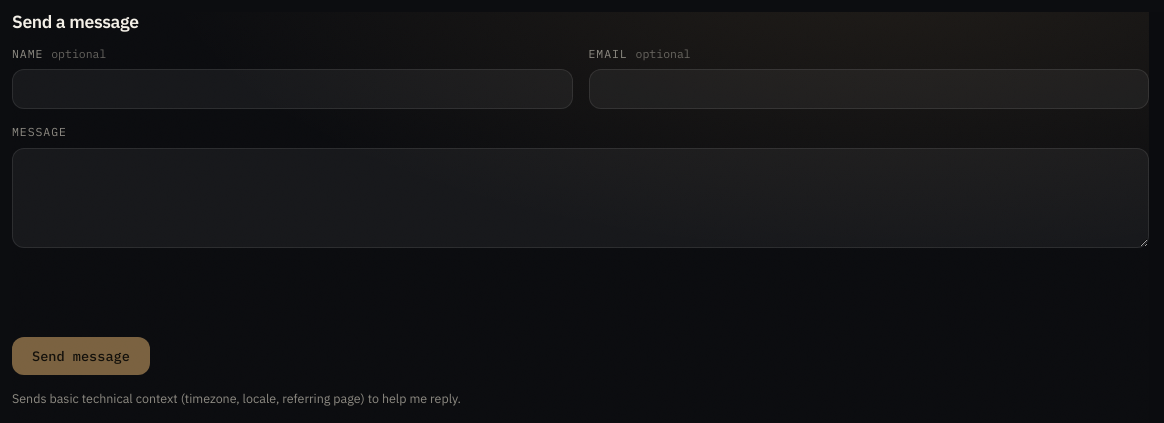
it: ContactForm › submits a typed message and shows a success note
The width and height of the screenshot is (1164, 423).
In the text box labelled "Message": (580, 198) [12,148,1149,248], type "Hi Brent"
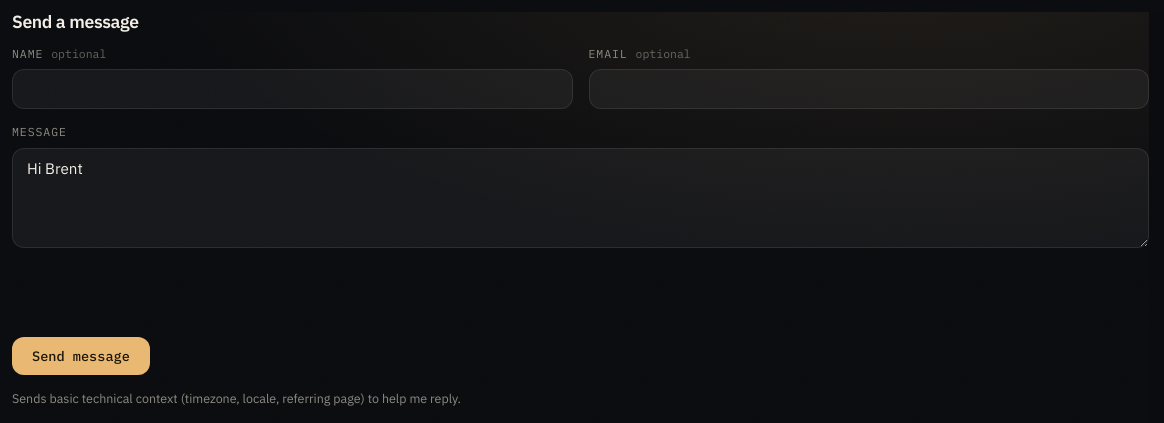
Click the button "Send message": (81, 356) [12,337,150,375]
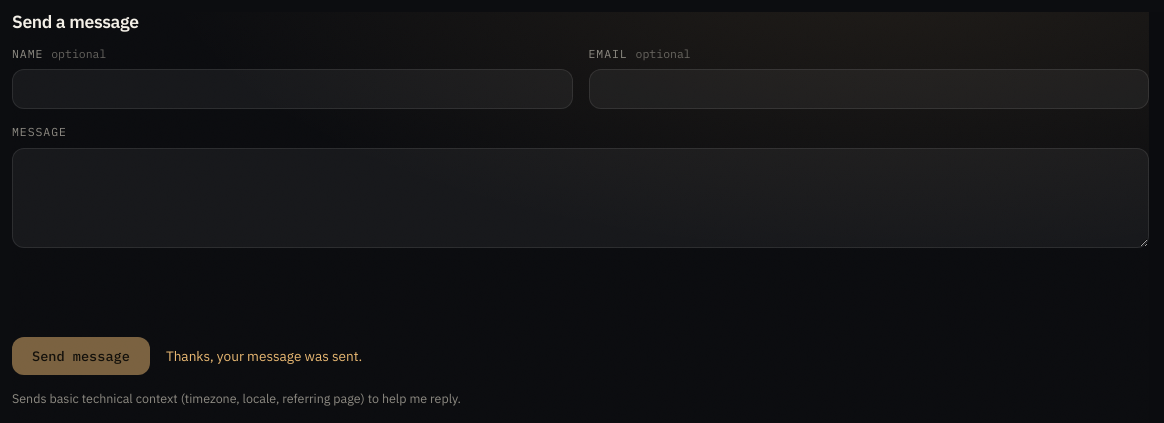
Result: the text "Thanks, your message was sent." is shown at [166,346,362,367]
